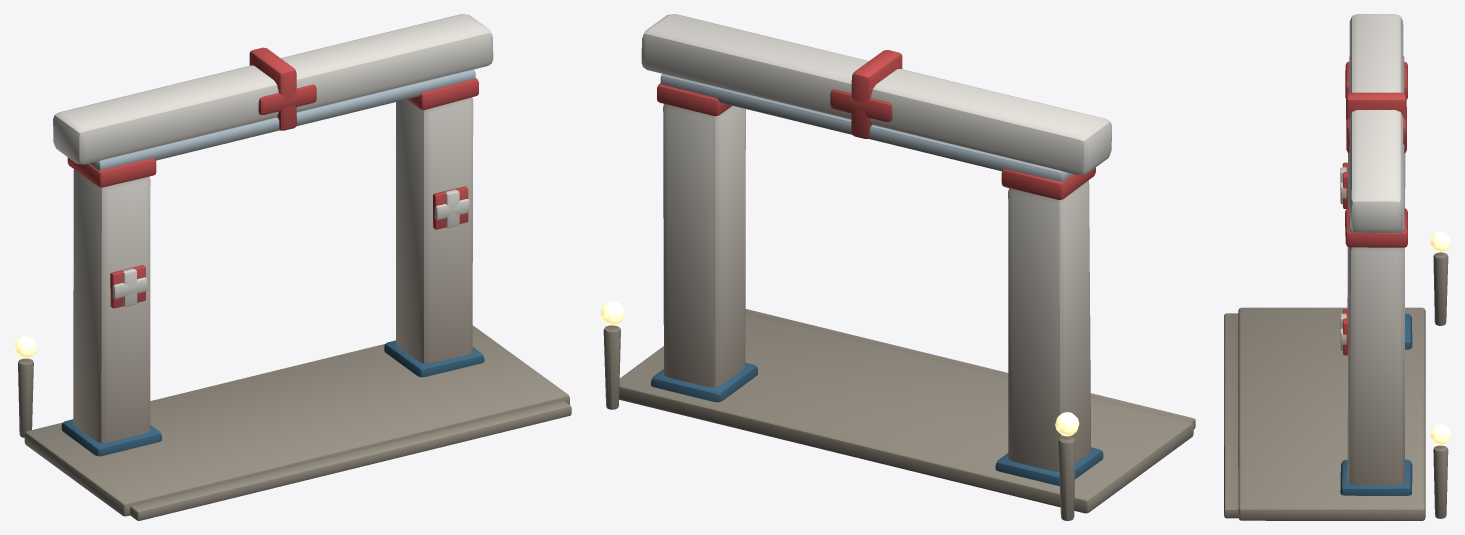
3 views of the same model, side by side, from view 1: azimuth 30°, elevation 25°; view 2: azimuth 150°, elevation 25°; view 3: azimuth 270°, elevation 25° (orthographic). The views are drawn at different scales.
Visible parts, largest first — view 1: gate_373fb8c0; view 2: gate_373fb8c0; view 3: gate_373fb8c0.
Boxes of the visible parts, box(x1,y1,x2,y2) form: gate_373fb8c0: box(14, 14, 571, 520); gate_373fb8c0: box(600, 14, 1195, 520); gate_373fb8c0: box(1224, 14, 1450, 520).
Size of the model in its own units: 5.38 by 4.04 by 2.54.
